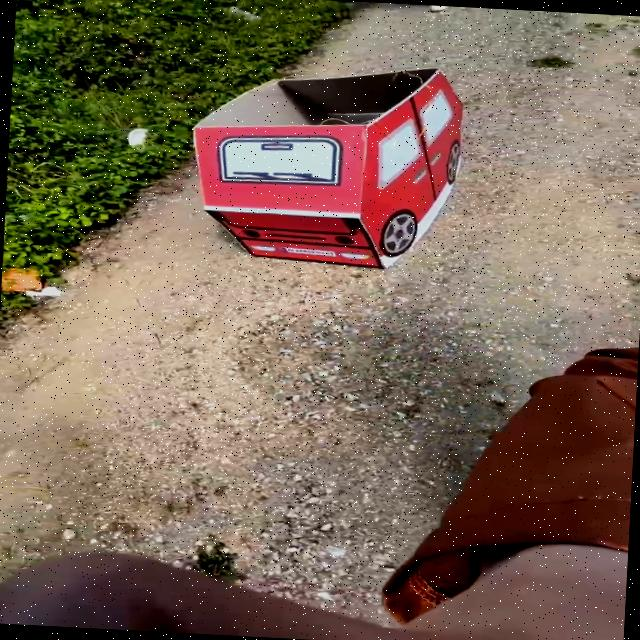red_car: (144, 52, 517, 283)
